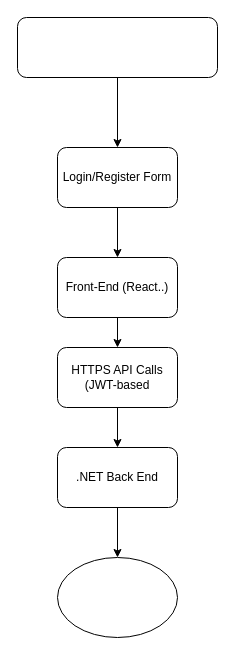
Image size: 235x655. Some labels were removed from this diagram. The shapes that lost their labels are listed below. From the top down, each one's box as (x1, y1, x2, y2) in pixels, then its label:
(16, 16, 218, 78): Mobile / Web Client
(56, 556, 178, 638): In-Memory User Store
